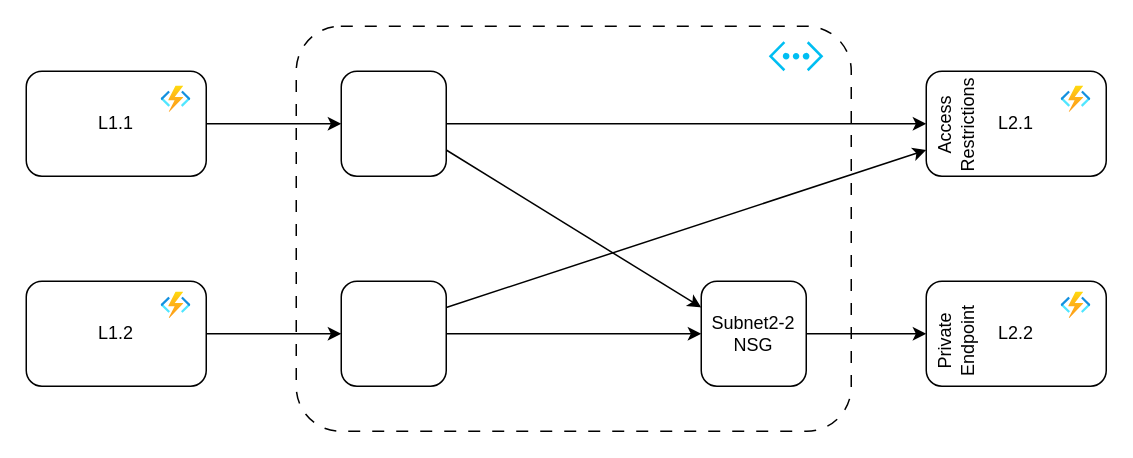
This 1133x458 diagram has some shape labels left out. The centre of each missing label's shape, as x and y in pixels:
"Subnet1" belongs at [393,123].
"Subnet2" belongs at [393,333].
